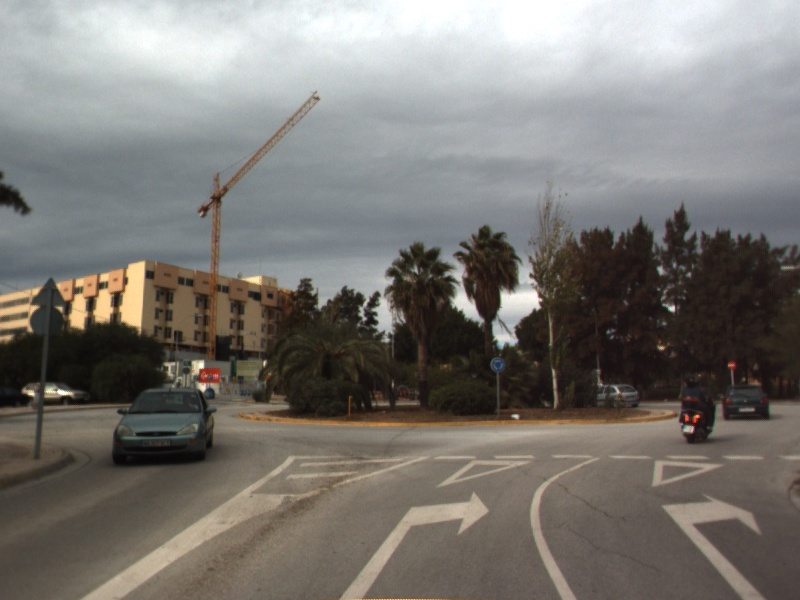RIGHT: (335, 489, 493, 600), (658, 490, 770, 600)
